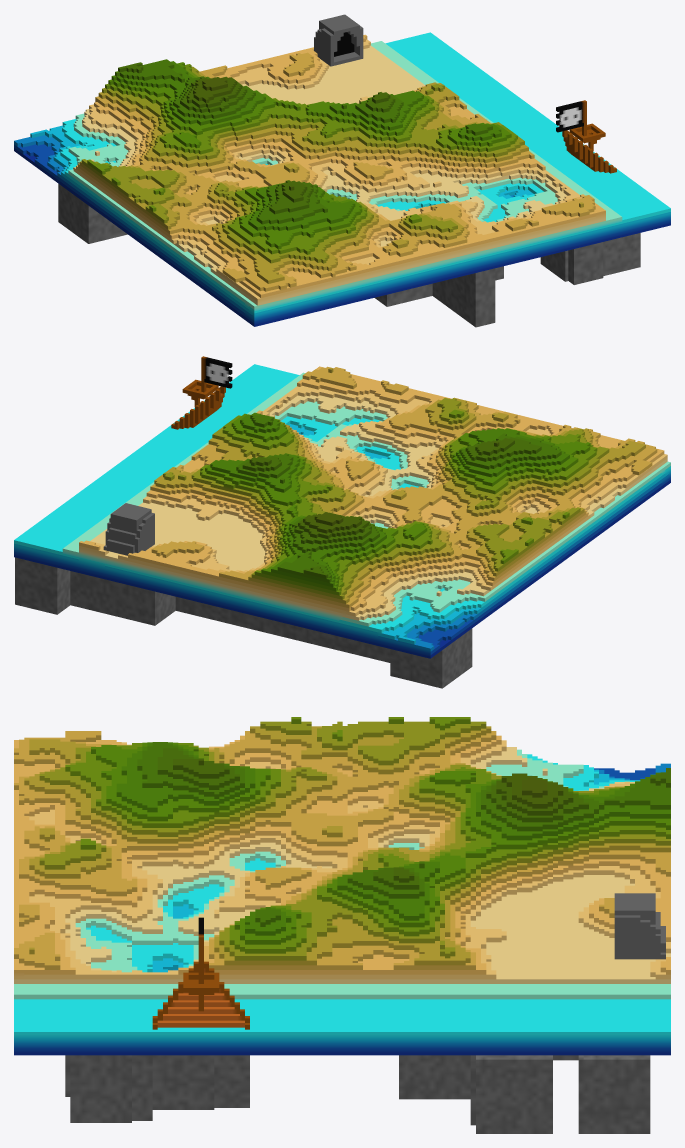
Rendered from Beach.dae.
3 views of the same model, one above another, from view 1: azimuth 30°, elevation 25°; view 2: azimuth 150°, elevation 25°; view 3: azimuth 270°, elevation 25° (orthographic). The views are drawn at different scales.
Visible parts, largest first — view 1: Plage, TrapCave, Grotte; view 2: Plage, TrapCave, Grotte; view 3: Plage, TrapCave, Grotte.
Part boxes in pixels (x1,y1,x2,y2): Plage: (14,32,670,326); TrapCave: (58,184,640,327); Grotte: (313,14,363,66); Plage: (14,356,670,658); TrapCave: (15,557,472,688); Grotte: (103,503,154,555); Plage: (14,717,670,1055); TrapCave: (65,1055,650,1133); Grotte: (614,893,665,959).
Size of the model in its own units: 130 by 39 by 128.
1 material, 1 textured.
